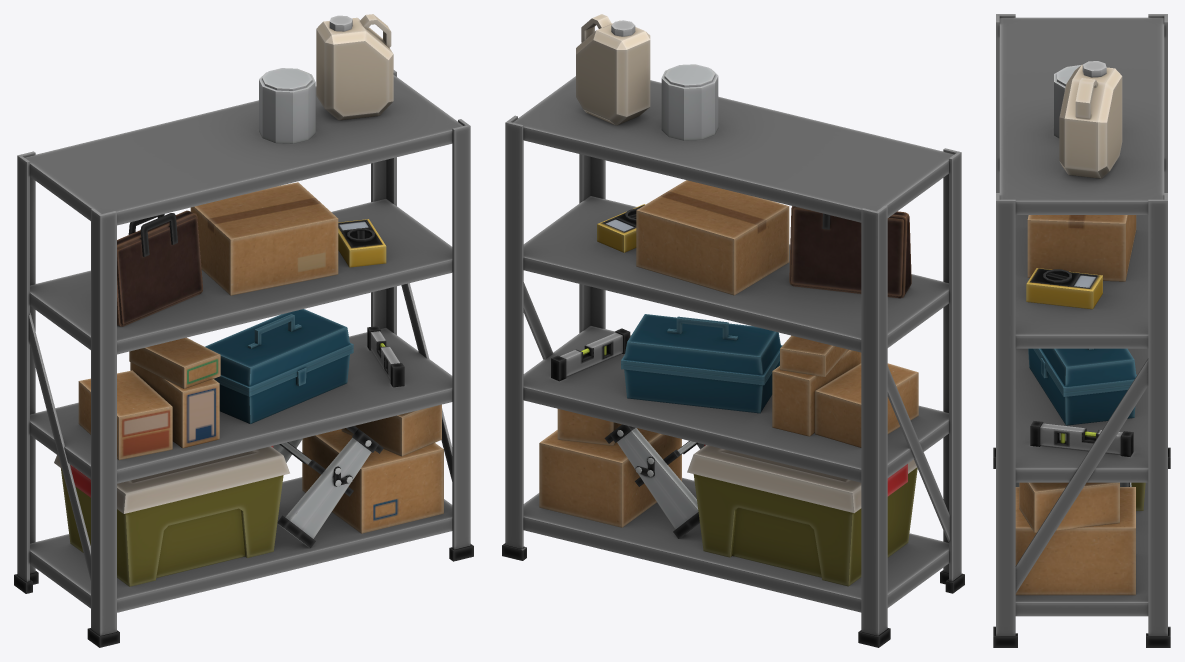
The model's file is TOOL SHELF.fbx.
The picture shows the model from 3 angles, left to right: view 1: azimuth 30°, elevation 25°; view 2: azimuth 150°, elevation 25°; view 3: azimuth 270°, elevation 25°; orthographic projection. The views are drawn at different scales.
Parts seen in each view (by area): view 1: 1-_tool_shelf_mat, 1-_tool_shelf_mat.006, 1-_tool_shelf_mat.001, 1-_tool_shelf_mat.003, 1-_tool_shelf_mat.012, 1-_tool_shelf_mat.002, 1-_tool_shelf_mat.004, 1-_tool_shelf_mat.010, 1-_tool_shelf_mat.007, 1-_tool_shelf_mat.005, 1-_tool_shelf_mat.008, 1-_tool_shelf_mat.009 (+3 smaller); view 2: 1-_tool_shelf_mat, 1-_tool_shelf_mat.006, 1-_tool_shelf_mat.001, 1-_tool_shelf_mat.003, 1-_tool_shelf_mat.012, 1-_tool_shelf_mat.002, 1-_tool_shelf_mat.004, 1-_tool_shelf_mat.010, 1-_tool_shelf_mat.007, 1-_tool_shelf_mat.005, 1-_tool_shelf_mat.008, 1-_tool_shelf_mat.009 (+3 smaller); view 3: 1-_tool_shelf_mat, 1-_tool_shelf_mat.012, 1-_tool_shelf_mat.004, 1-_tool_shelf_mat.003, 1-_tool_shelf_mat.001, 1-_tool_shelf_mat.011, 1-_tool_shelf_mat.015, 1-_tool_shelf_mat.013, 1-_tool_shelf_mat.005, 1-_tool_shelf_mat.006.
Boxes of the visible parts, <box> form: 1-_tool_shelf_mat: <box>14,70,473,647</box>; 1-_tool_shelf_mat.006: <box>54,446,289,586</box>; 1-_tool_shelf_mat.001: <box>190,182,338,295</box>; 1-_tool_shelf_mat.003: <box>205,309,353,423</box>; 1-_tool_shelf_mat.012: <box>302,429,443,533</box>; 1-_tool_shelf_mat.002: <box>117,210,202,326</box>; 1-_tool_shelf_mat.004: <box>316,14,393,120</box>; 1-_tool_shelf_mat.010: <box>78,370,172,460</box>; 1-_tool_shelf_mat.007: <box>273,426,383,548</box>; 1-_tool_shelf_mat.005: <box>259,68,315,143</box>; 1-_tool_shelf_mat.008: <box>130,362,219,448</box>; 1-_tool_shelf_mat.009: <box>129,337,220,388</box>; 1-_tool_shelf_mat: <box>502,76,964,647</box>; 1-_tool_shelf_mat.006: <box>687,444,917,586</box>; 1-_tool_shelf_mat.001: <box>636,180,789,295</box>; 1-_tool_shelf_mat.003: <box>621,314,782,413</box>; 1-_tool_shelf_mat.012: <box>539,428,681,527</box>; 1-_tool_shelf_mat.002: <box>789,206,911,298</box>; 1-_tool_shelf_mat.004: <box>576,14,650,125</box>; 1-_tool_shelf_mat.010: <box>815,363,918,447</box>; 1-_tool_shelf_mat.007: <box>604,424,703,538</box>; 1-_tool_shelf_mat.005: <box>661,64,718,140</box>; 1-_tool_shelf_mat.008: <box>772,349,861,436</box>; 1-_tool_shelf_mat.009: <box>780,335,848,376</box>; 1-_tool_shelf_mat: <box>993,14,1170,647</box>; 1-_tool_shelf_mat.012: <box>1015,487,1135,595</box>; 1-_tool_shelf_mat.004: <box>1059,61,1122,178</box>; 1-_tool_shelf_mat.003: <box>1028,348,1136,425</box>; 1-_tool_shelf_mat.001: <box>1027,215,1136,281</box>; 1-_tool_shelf_mat.011: <box>1019,482,1119,532</box>; 1-_tool_shelf_mat.015: <box>1026,268,1102,309</box>; 1-_tool_shelf_mat.013: <box>1030,421,1133,456</box>; 1-_tool_shelf_mat.005: <box>1054,65,1080,137</box>; 1-_tool_shelf_mat.006: <box>1131,482,1145,510</box>.
Size of the model in its own units: 1.82 by 2.42 by 0.72.
